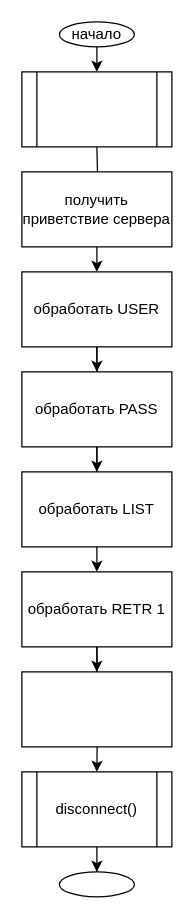
The diagram is 194 pixels wide and 919 high, and some of its shapes have lost their labels. The centre of each missing label's shape, as x and y in pixels:
"get_connect()" belongs at [96,109].
"конец" belongs at [96,884].
"обработать QUIT" belongs at [96,709].
